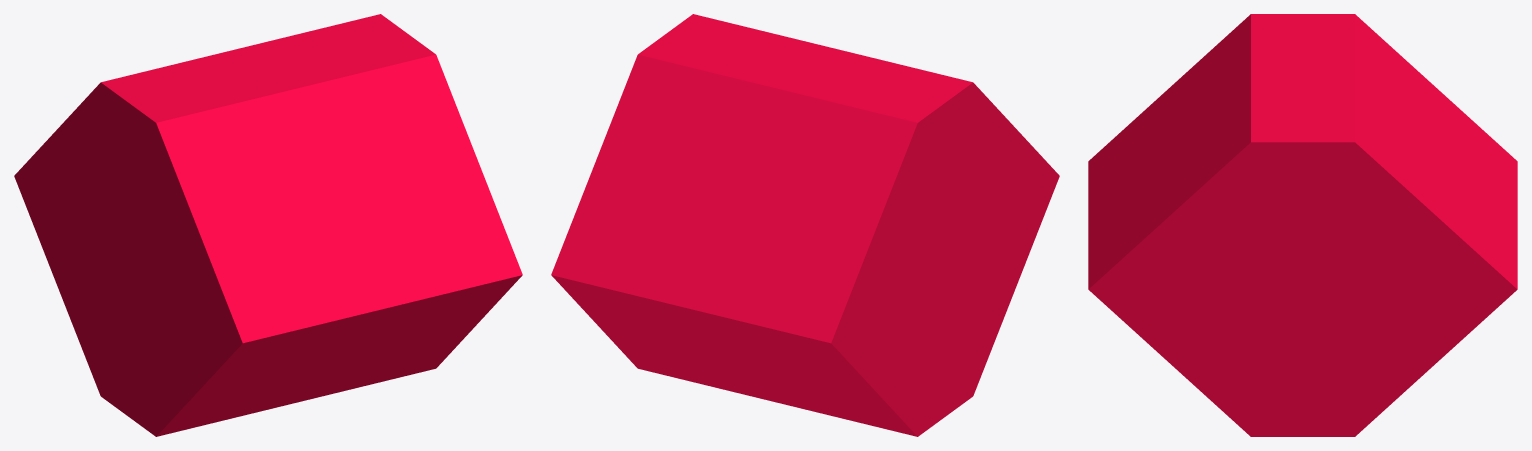
File: button_red.fbx
3 renders of one model, left to right at view 1: azimuth 30°, elevation 25°; view 2: azimuth 150°, elevation 25°; view 3: azimuth 270°, elevation 25°, orthographic. The views are drawn at different scales.
Parts seen in each view (by area): view 1: Cube.015; view 2: Cube.015; view 3: Cube.015.
Boxes of the visible parts, bbox=[...] form: Cube.015: bbox=[14, 14, 522, 436]; Cube.015: bbox=[551, 14, 1059, 436]; Cube.015: bbox=[1088, 14, 1517, 436].
Size of the model in its own units: 96.99 by 104 by 137.
